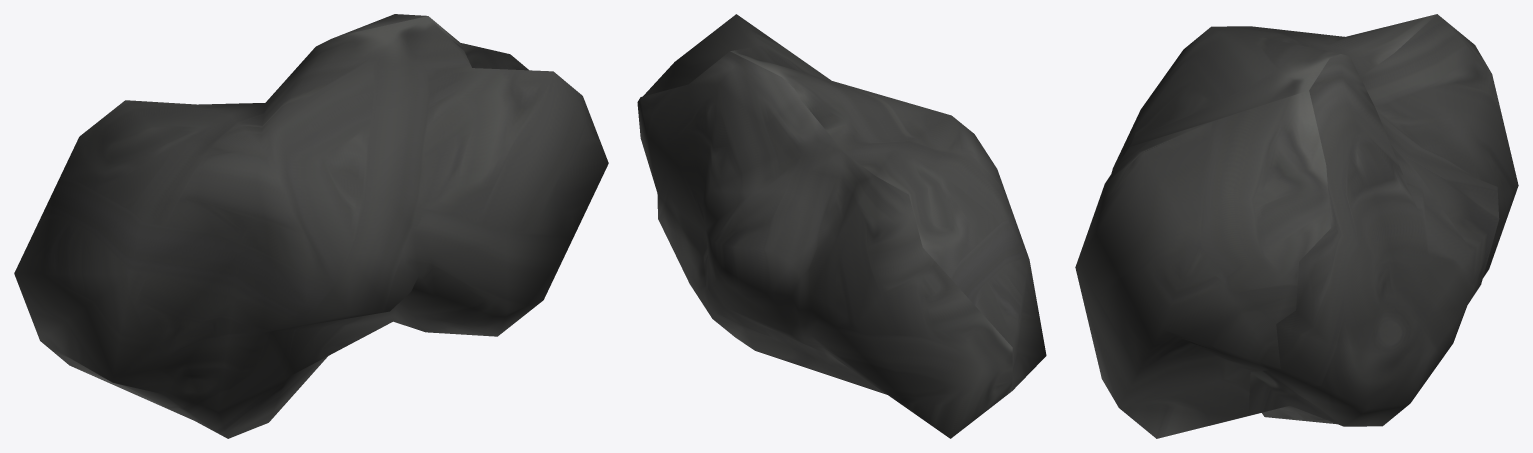
The model's file is asteroid1.glb.
3 renders of one model, left to right at view 1: azimuth 30°, elevation 25°; view 2: azimuth 150°, elevation 25°; view 3: azimuth 270°, elevation 25°, orthographic. The views are drawn at different scales.
Visible parts, largest first — view 1: asteroid; view 2: asteroid; view 3: asteroid.
Boxes of the visible parts, x1,y1,x2,y2 form: asteroid: (14, 14, 608, 438); asteroid: (637, 14, 1046, 438); asteroid: (1075, 14, 1518, 438).
Bounding box in the file's own units: 4.41 × 3.05 × 2.82.
Materials: 1 (1 with a texture image).
